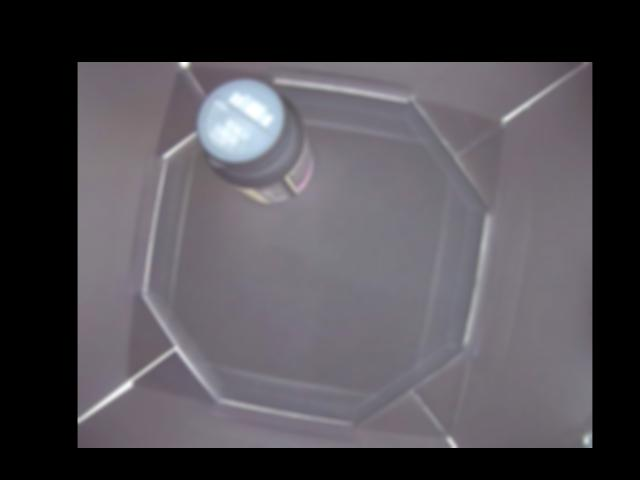Bottle: (196, 77, 314, 203)
